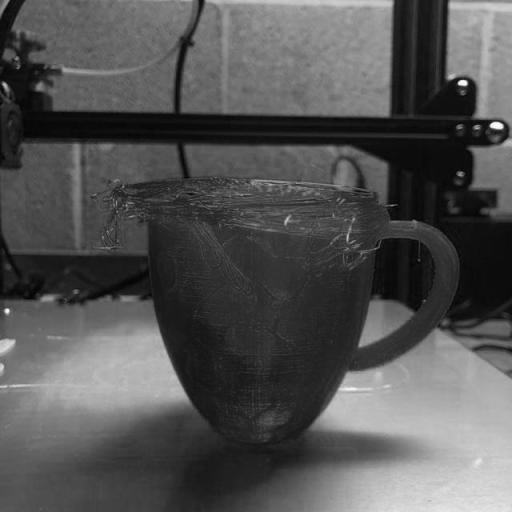spaghetti_and_stringing: (90, 175, 398, 272)
